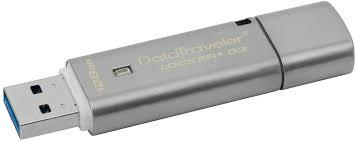Flash-drive: (6, 4, 357, 129)
